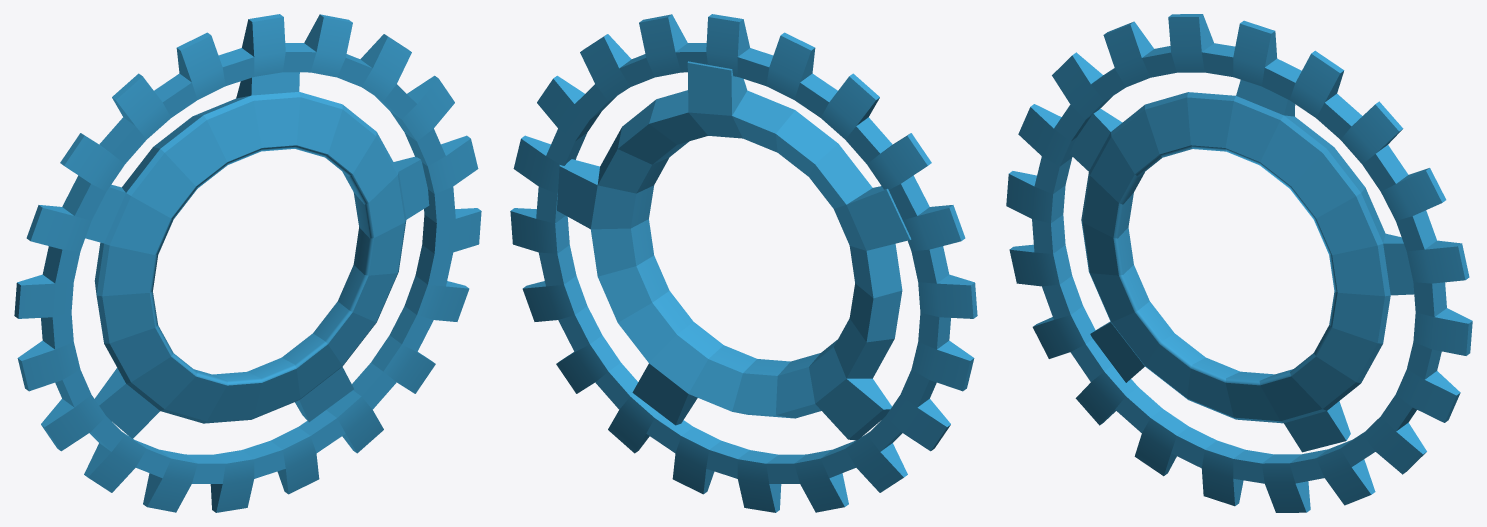
Rendered from Gear_Diam_04_Size_3.fbx.
3 views of the same model, side by side, from view 1: azimuth 30°, elevation 25°; view 2: azimuth 150°, elevation 25°; view 3: azimuth 330°, elevation 25° (orthographic).
Parts seen in each view (by area): view 1: Gear_Diam_04_Size_3; view 2: Gear_Diam_04_Size_3; view 3: Gear_Diam_04_Size_3.
Boxes of the visible parts, x1,y1,x2,y2 form: Gear_Diam_04_Size_3: (14, 14, 481, 512); Gear_Diam_04_Size_3: (510, 14, 977, 512); Gear_Diam_04_Size_3: (1006, 14, 1472, 512).
Size of the model in its own units: 26.21 by 26.21 by 2.54.
